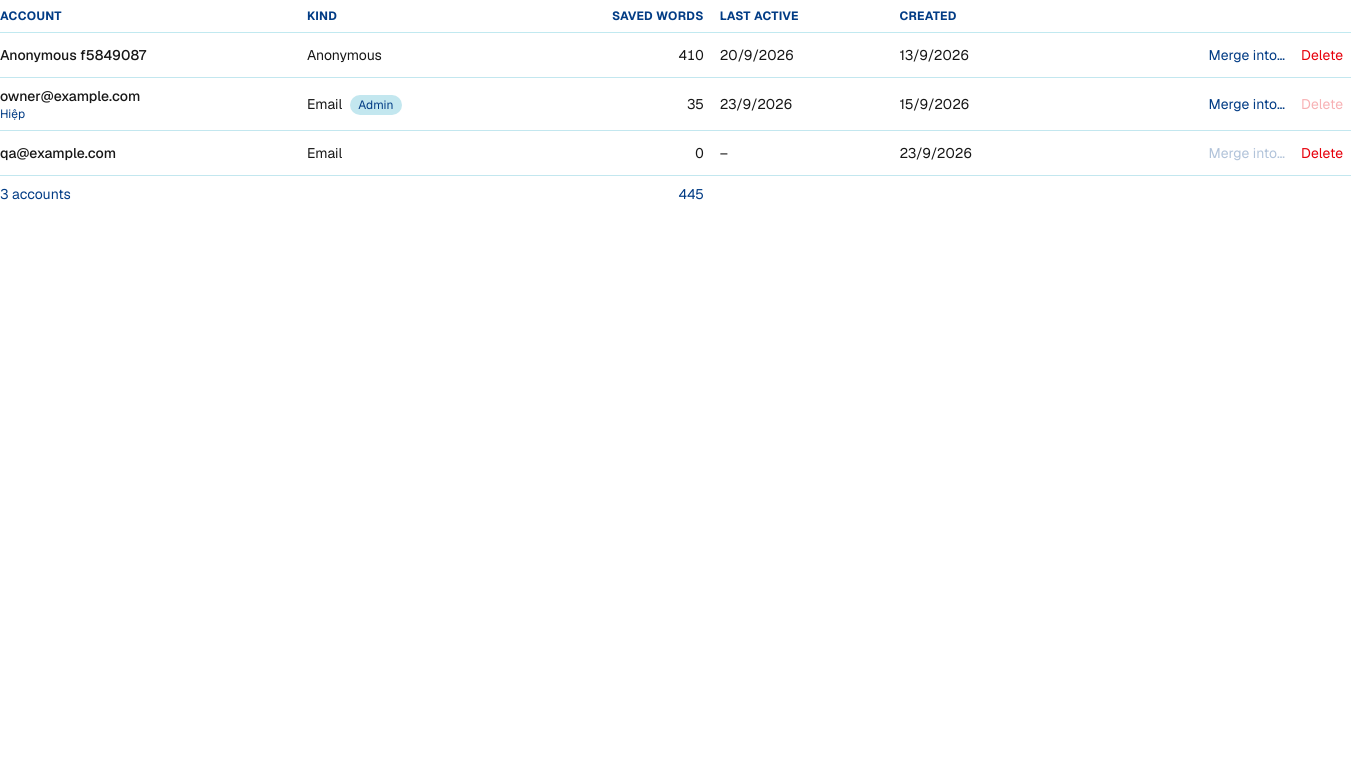
it: AccountTable › shows the refusal the server gives and keeps the dialog open
Click the button "Delete" in the row of "qa@example.com" at {"x": 1322, "y": 153}, box [1293, 139, 1351, 167]
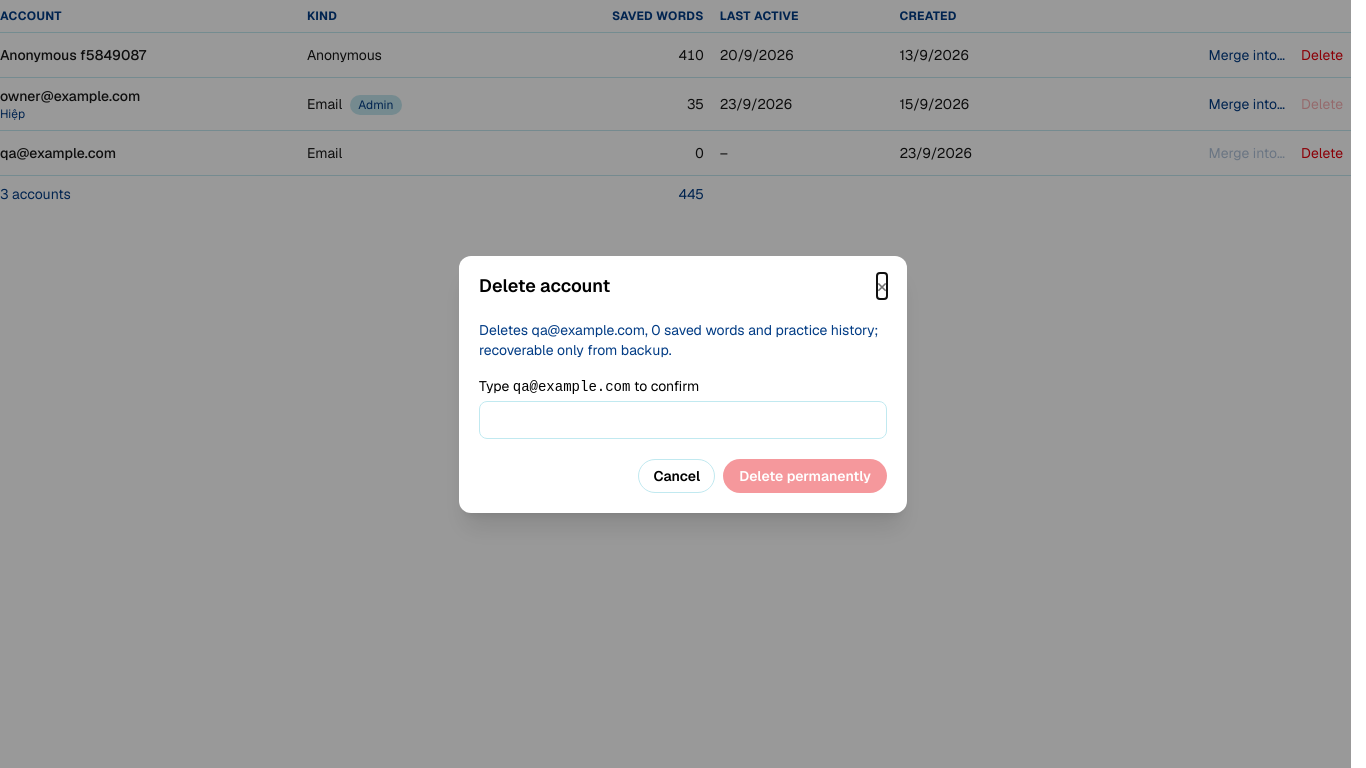
Type "qa@example.com" into the field at {"x": 683, "y": 420}, box [479, 400, 887, 438]
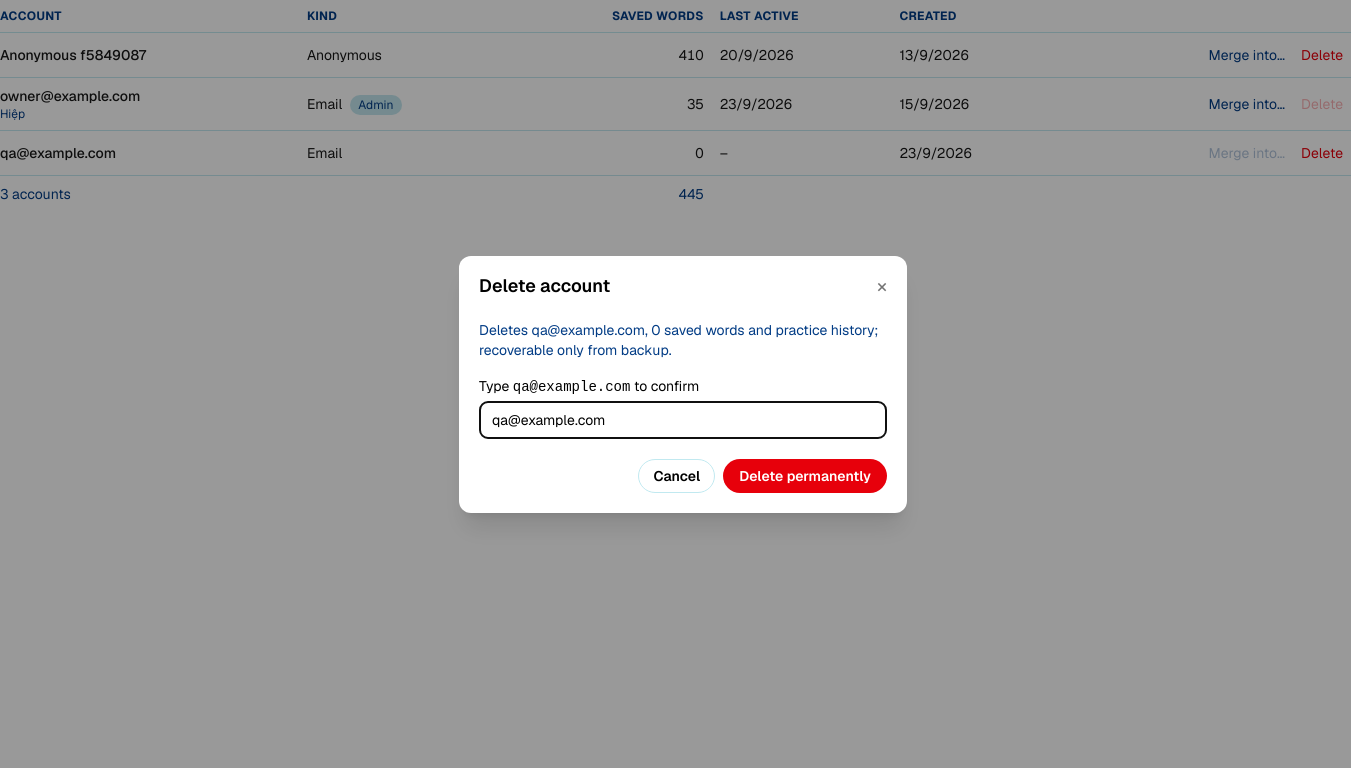
Click the button "Delete permanently" at {"x": 805, "y": 476}, box [723, 458, 887, 492]
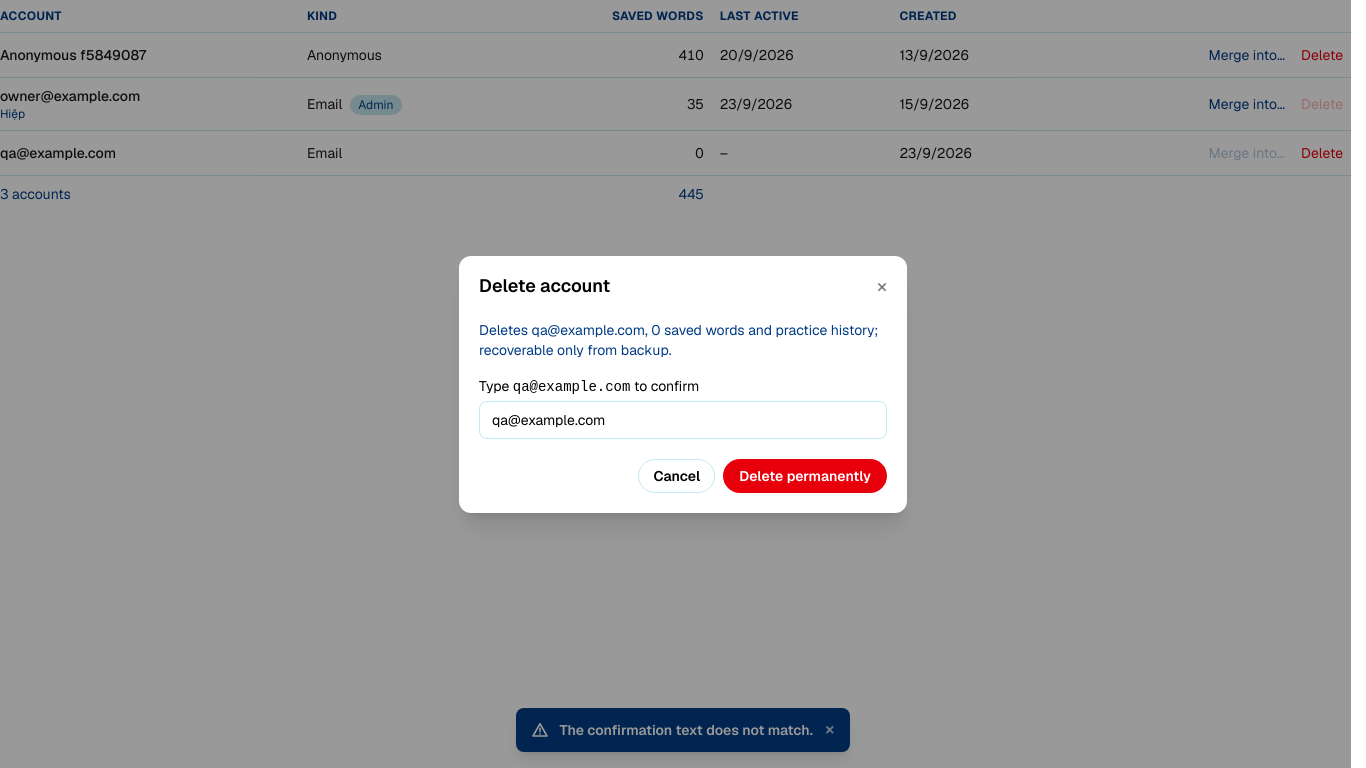
Check: the button "Delete permanently" is shown, box [723, 458, 887, 492]
Check: the text "The confirmation text does not match." is shown, box [560, 720, 813, 740]
